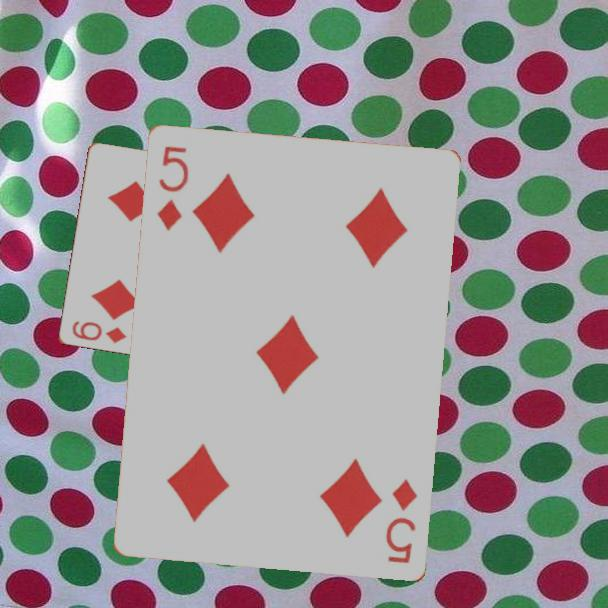d05: (382, 476, 421, 567), (154, 143, 192, 234)
d06: (68, 318, 129, 346)
